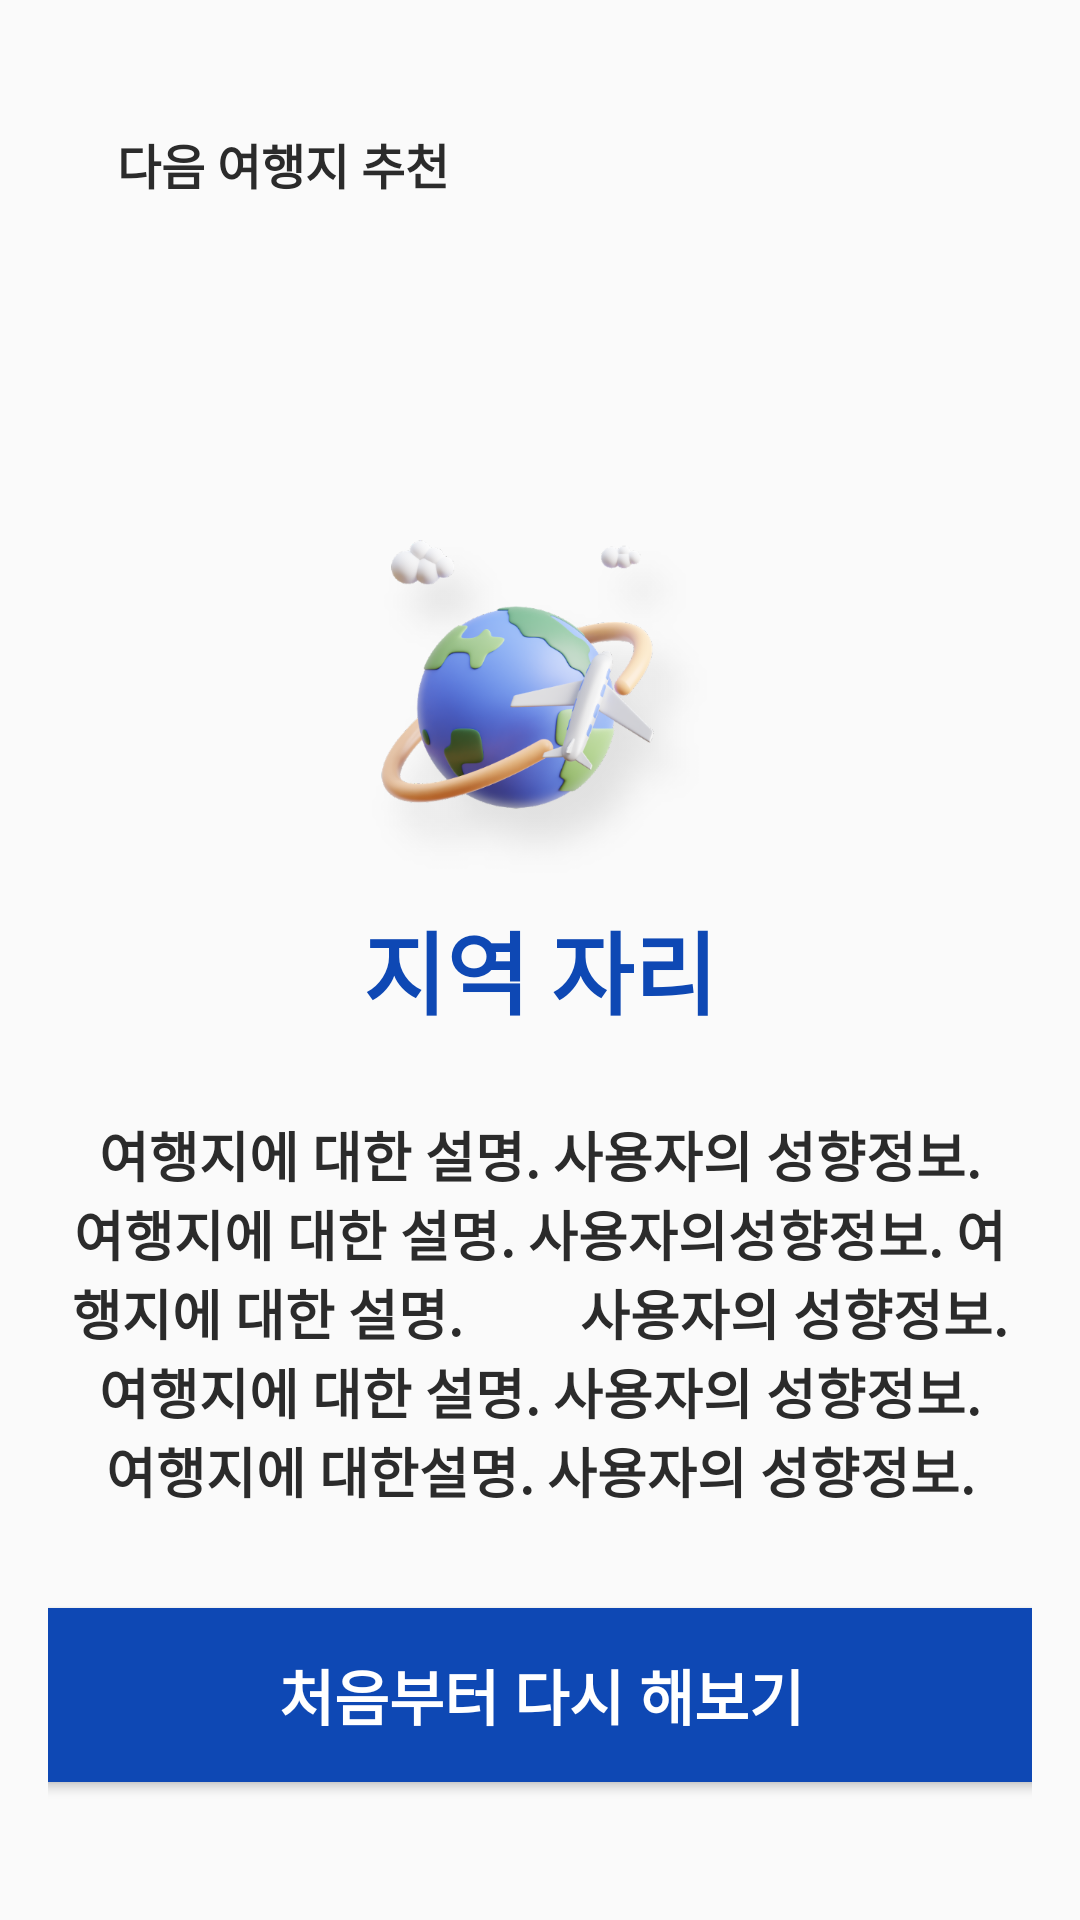

Named icons in this screenshot (1080 × 1920) and their centers, (x,y):
world tour: (517,679)
